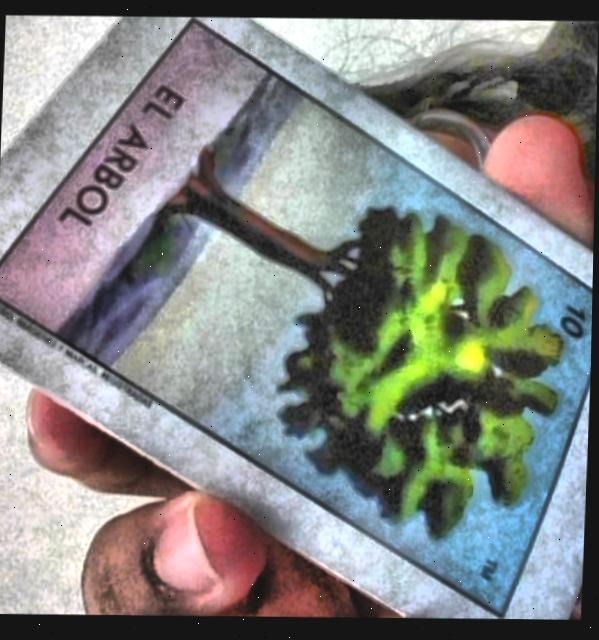El Arbol: (0, 19, 594, 613)
